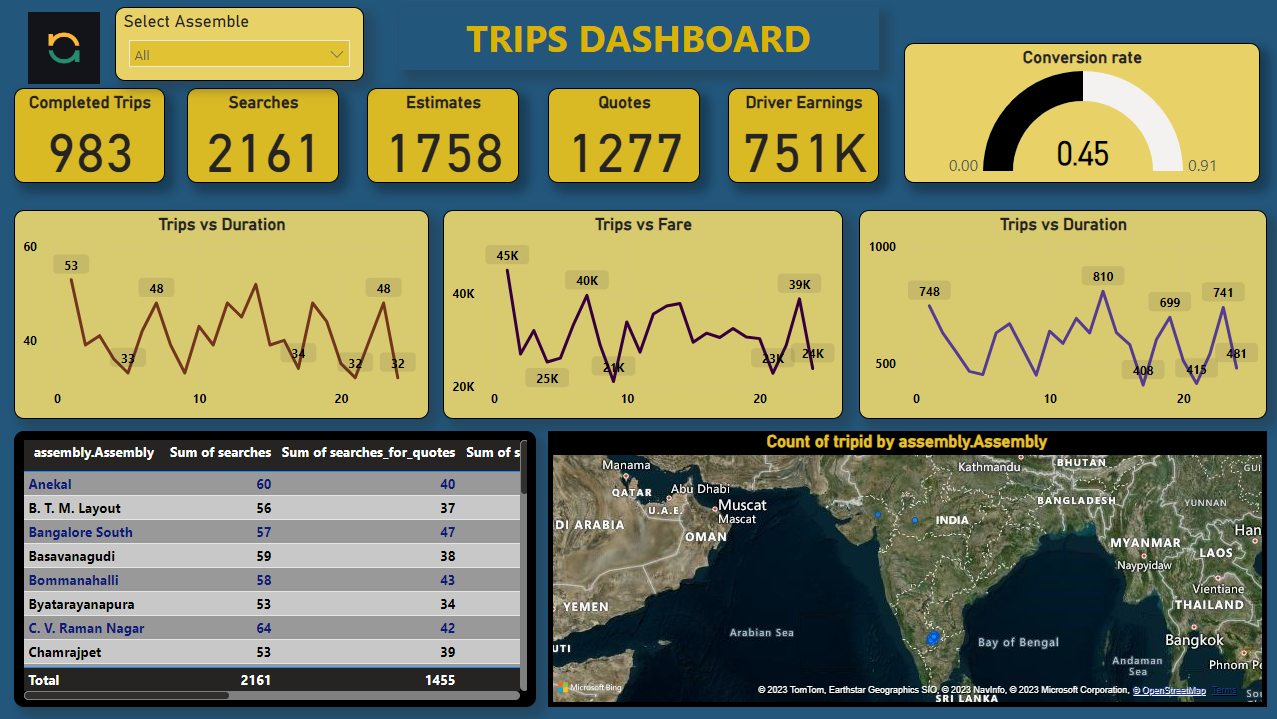

The page's visual inventory and layout, read from the dashboard file:
{"tool":"powerbi","page":{"name":"Page 1","canvas":[1280,720],"ordinal":0},"visuals":[{"type":"card","title":"Completed Trips","fields":{"Values":["Sum(trip_details.end_ride)"]},"box":[16.5,89.4,151.6,94.3],"z":0},{"type":"card","title":"Searches","fields":{"Values":["Sum(trip_details.searches)"]},"box":[190.5,89.4,151.6,94.3],"z":1},{"type":"card","title":" Estimates","fields":{"Values":["Sum(trip_details.searches_got_estimate)"]},"box":[370.3,89.4,151.6,94.3],"z":2},{"type":"card","title":"Quotes","fields":{"Values":["Sum(trip_details.searches_got_quotes)"]},"box":[551.1,89.4,151.6,94.3],"z":3},{"type":"card","title":"Driver Earnings","fields":{"Values":["Sum(trips.fare)"]},"box":[730.9,89.4,151.6,94.3],"z":4},{"type":"gauge","fields":{"Y":["trip_details.Conversion rate"]},"box":[906.8,43.7,356.7,140],"z":5},{"type":"lineChart","title":"Trips vs Duration","fields":{"Category":["trips.duration"],"Y":["CountNonNull(trips.tripid)"]},"box":[16.5,210.9,416,209],"z":6},{"type":"lineChart","title":"Trips vs Fare","fields":{"Category":["trips.duration"],"Y":["Sum(trips.fare)"]},"box":[446.1,210.9,399.5,209],"z":7},{"type":"lineChart","title":"Trips vs Duration","fields":{"Category":["trips.duration"],"Y":["Sum(trips.distance)"]},"box":[862.1,210.9,408.2,209],"z":8},{"type":"tableEx","fields":{"Values":["Merge2.assembly.Assembly","Sum(Merge2.searches)","Sum(Merge2.searches_for_quotes)","Sum(Merge2.searches_got_estimate)","Sum(Merge2.searches_got_quotes)","Sum(Merge2.trips.distance)","Sum(Merge2.trips.fare)","trip_details.Conversion rate"]},"box":[16.5,431.5,522.9,276],"z":9},{"type":"map","fields":{"Category":["Merge2.assembly.Assembly"]},"box":[551.1,431.5,719.2,276],"z":11},{"type":"textbox","box":[402.4,7.8,480.1,63.2],"z":12},{"type":"slicer","title":"Select Assemble","fields":{"Values":["Merge2.assembly.Assembly"]},"box":[117.7,7.9,249.4,73.8],"z":13},{"type":"image","box":[16.7,7.9,101,81.7],"z":14}]}

Visuals, with their boxes in screenshot pixels (x1, y1, x2, y2), scaled from the page's 1280x720 canvas onto the 1277x719 screenshot:
"Completed Trips" card: pyautogui.locateOnScreen(16, 89, 168, 183)
"Searches" card: pyautogui.locateOnScreen(190, 89, 341, 183)
" Estimates" card: pyautogui.locateOnScreen(369, 89, 521, 183)
"Quotes" card: pyautogui.locateOnScreen(550, 89, 701, 183)
"Driver Earnings" card: pyautogui.locateOnScreen(729, 89, 880, 183)
gauge - trip_details.Conversion rate: pyautogui.locateOnScreen(905, 44, 1261, 183)
"Trips vs Duration" lineChart: pyautogui.locateOnScreen(16, 211, 431, 419)
"Trips vs Fare" lineChart: pyautogui.locateOnScreen(445, 211, 844, 419)
"Trips vs Duration" lineChart: pyautogui.locateOnScreen(860, 211, 1267, 419)
tableEx - Merge2.assembly.Assembly x Sum(Merge2.searches): pyautogui.locateOnScreen(16, 431, 538, 707)
map - Merge2.assembly.Assembly: pyautogui.locateOnScreen(550, 431, 1267, 707)
textbox: pyautogui.locateOnScreen(401, 8, 880, 71)
"Select Assemble" slicer: pyautogui.locateOnScreen(117, 8, 366, 82)
image: pyautogui.locateOnScreen(17, 8, 117, 89)
